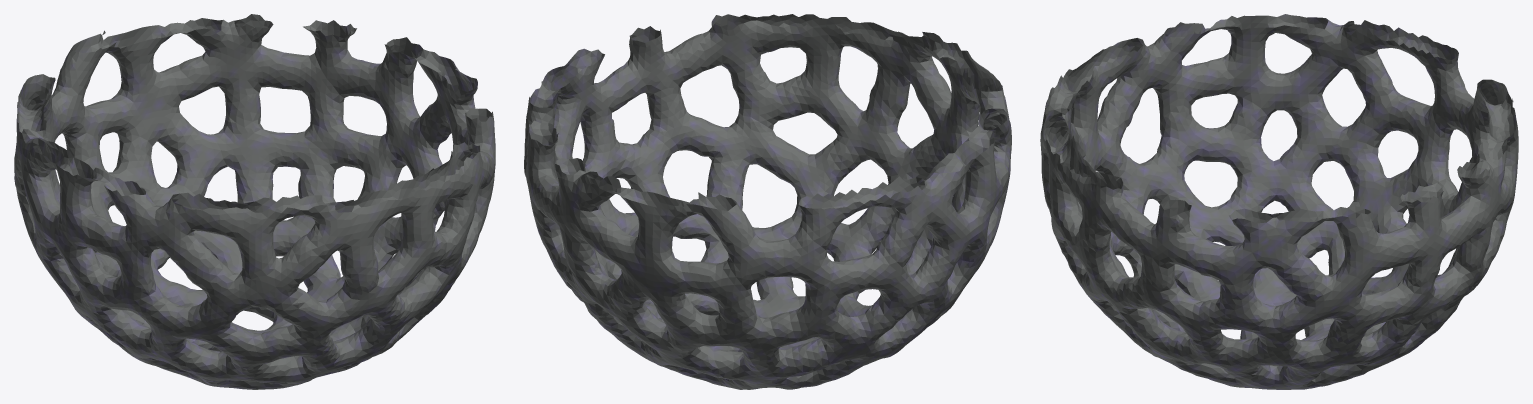
The picture shows the model from 3 angles, left to right: view 1: azimuth 30°, elevation 25°; view 2: azimuth 150°, elevation 25°; view 3: azimuth 270°, elevation 25°; orthographic projection. The views are drawn at different scales.
Size of the model in its own units: 1.97 by 1.17 by 1.98.
